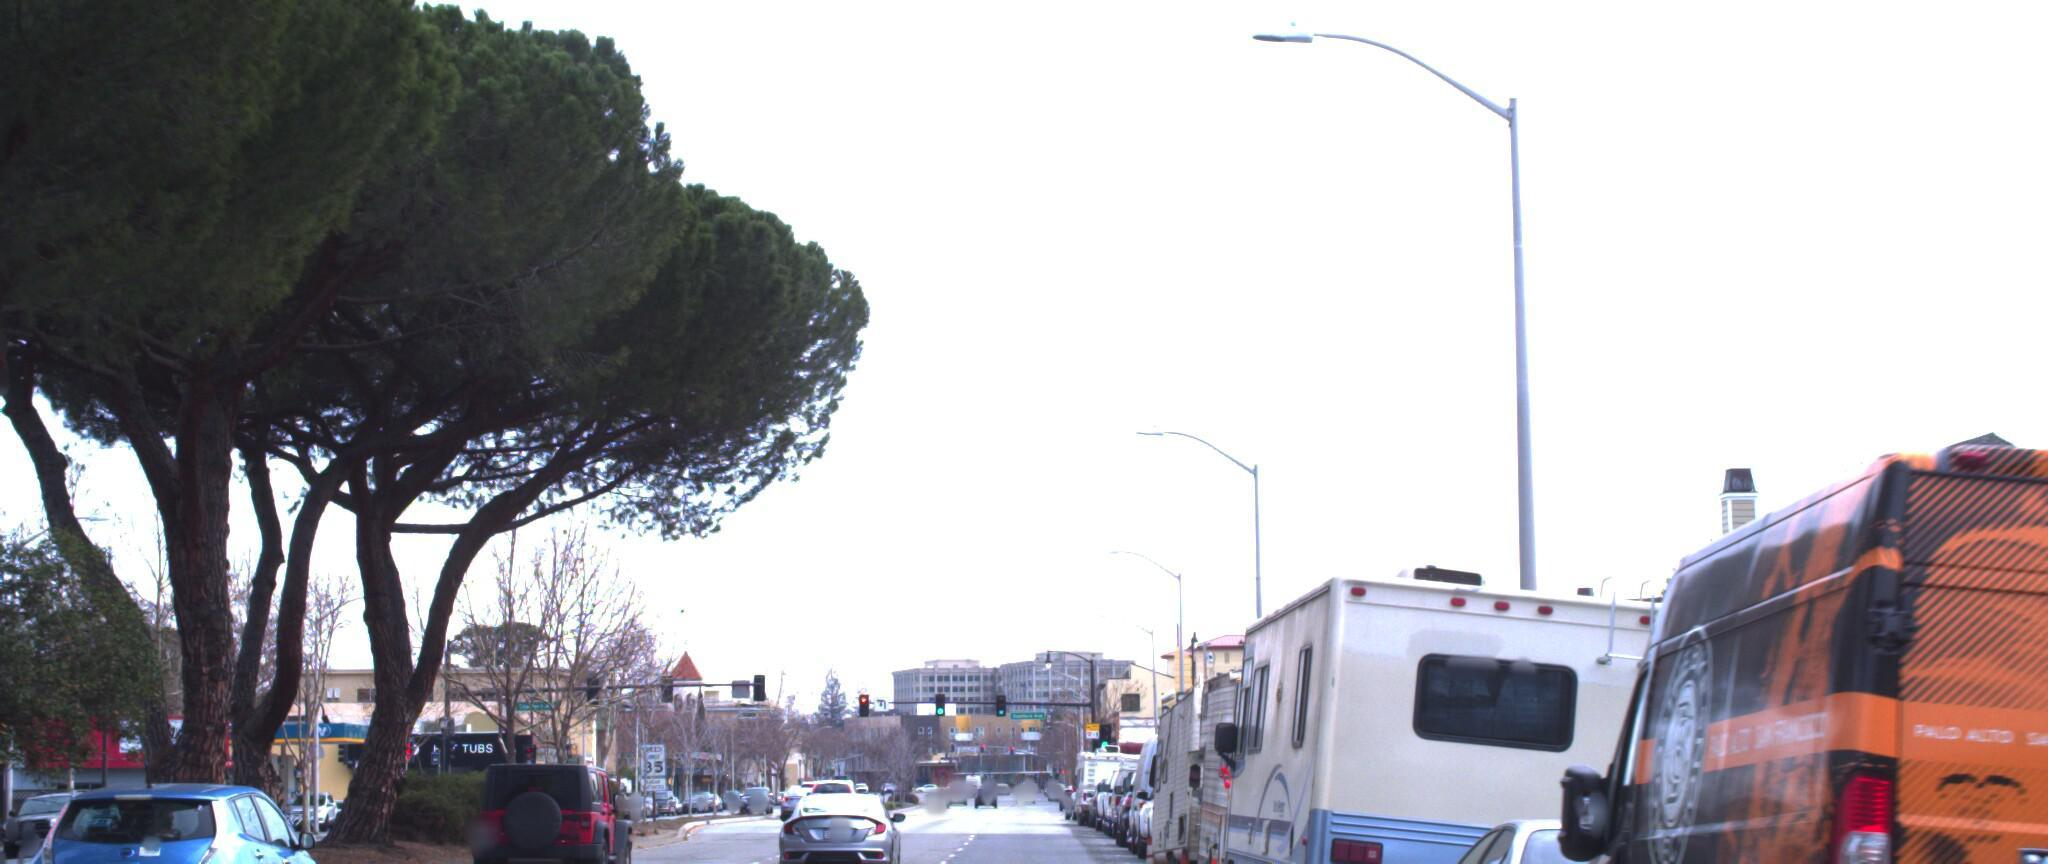car: (1539, 439, 2048, 864), (7, 764, 340, 864), (1383, 800, 1869, 864), (2000, 458, 2048, 864), (456, 756, 626, 864), (773, 773, 899, 864), (0, 784, 112, 861)
other_vehicle: (1225, 561, 1691, 864), (1186, 659, 1496, 864), (1145, 651, 1396, 864)
